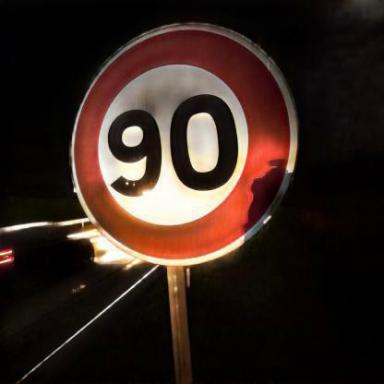Speed_limit_90: (75, 31, 293, 263)
